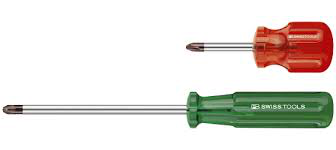screwdriver: (1, 78, 336, 138)
